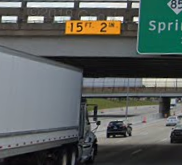1: (69, 21, 74, 33)
2: (98, 21, 108, 34)
5: (74, 20, 83, 34)
overheadsign: (64, 19, 121, 35)
